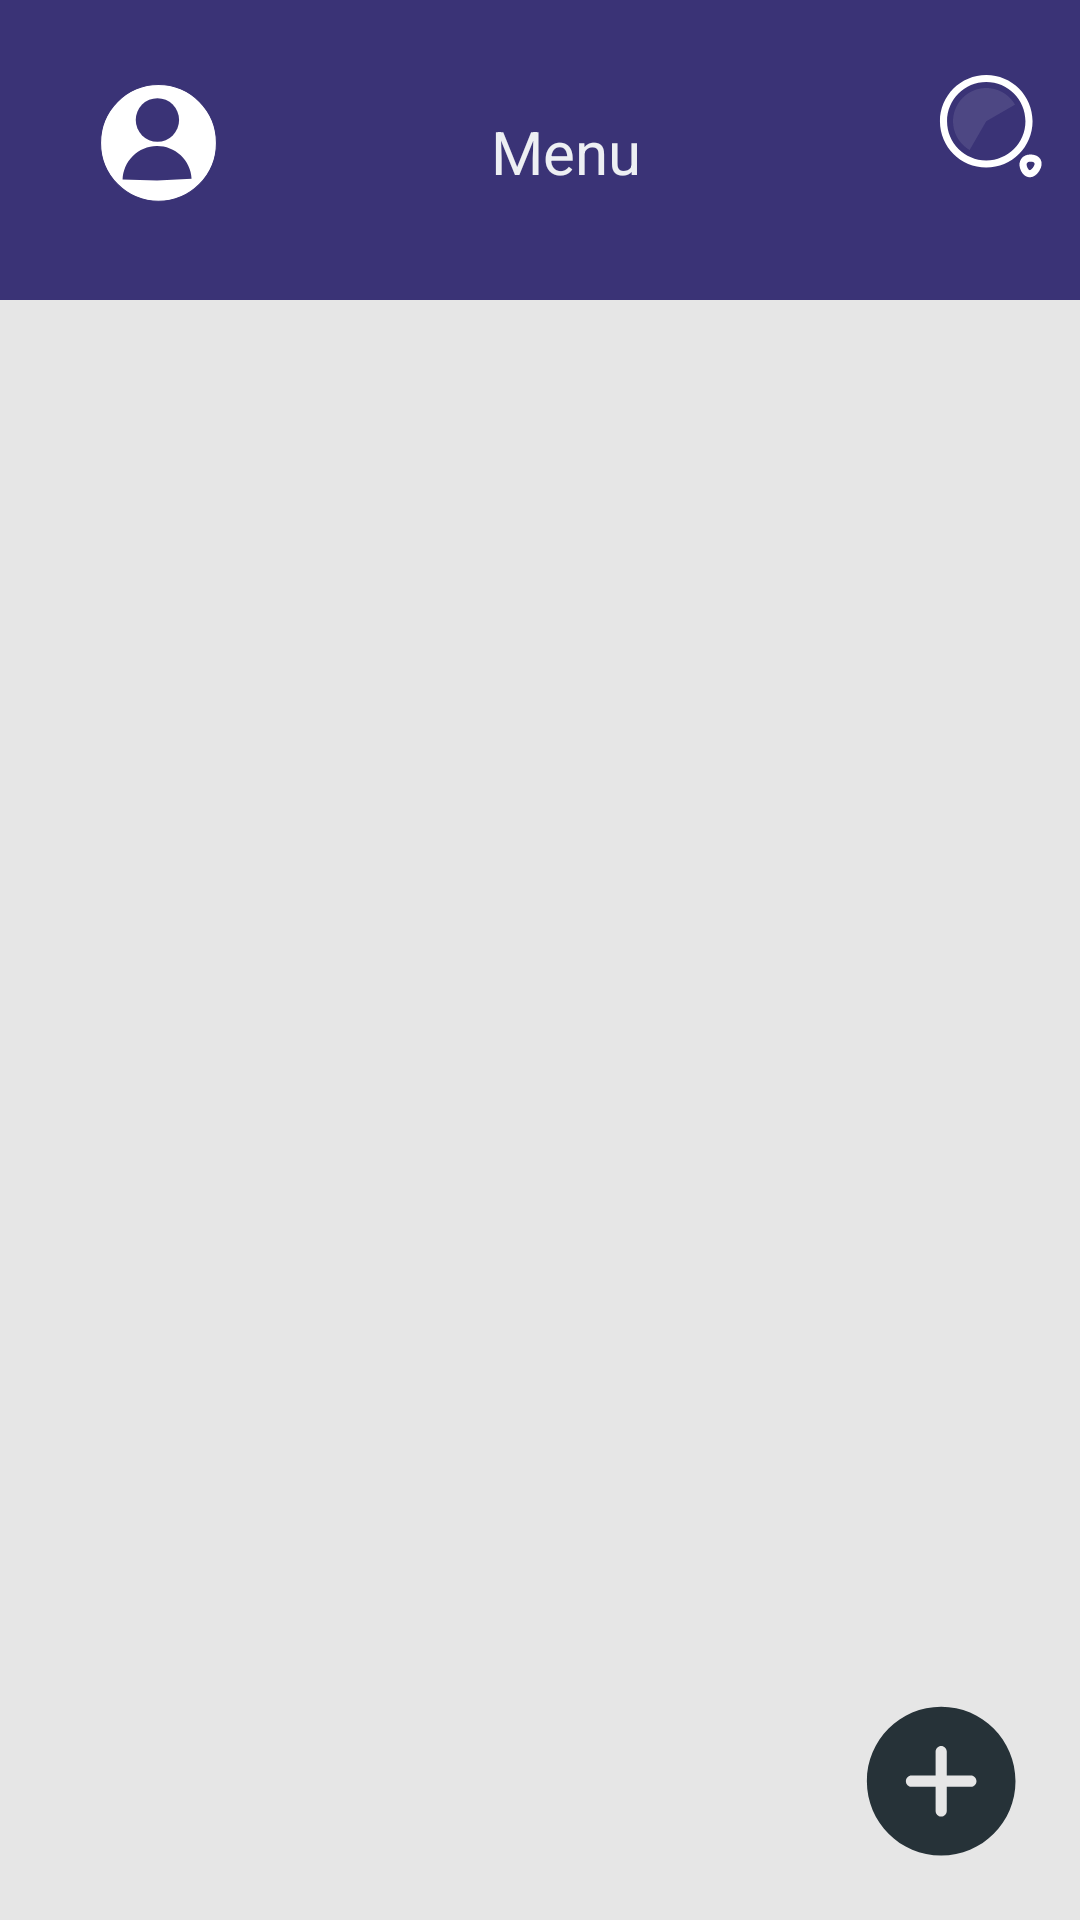

Icons on this 1080px x 1920px Android screen, each with the point to tap as (x=x, y=y):
add: (x=941, y=1781)
Search Button: (x=991, y=126)
